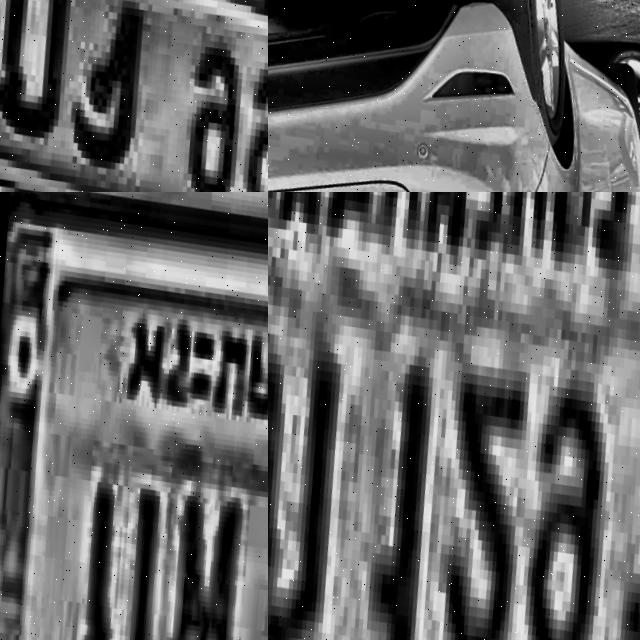license-plate: (268, 192, 640, 640), (0, 198, 268, 640), (0, 0, 268, 192)
